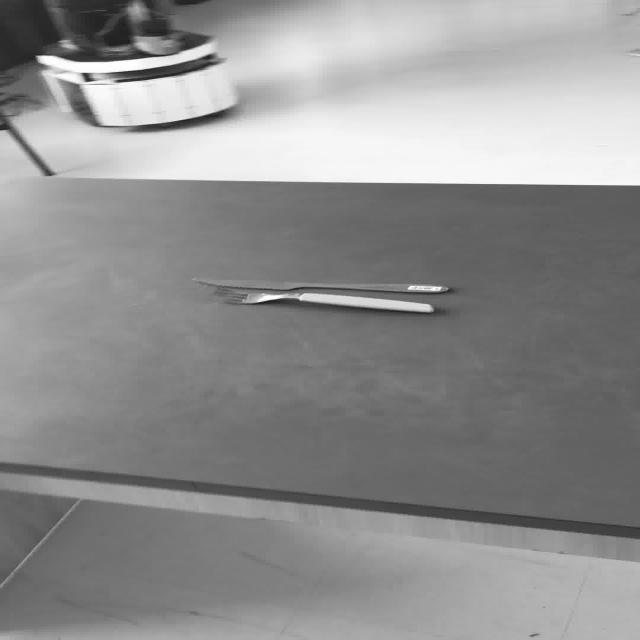fork: (211, 286, 434, 314)
knife fork: (190, 277, 448, 294)
